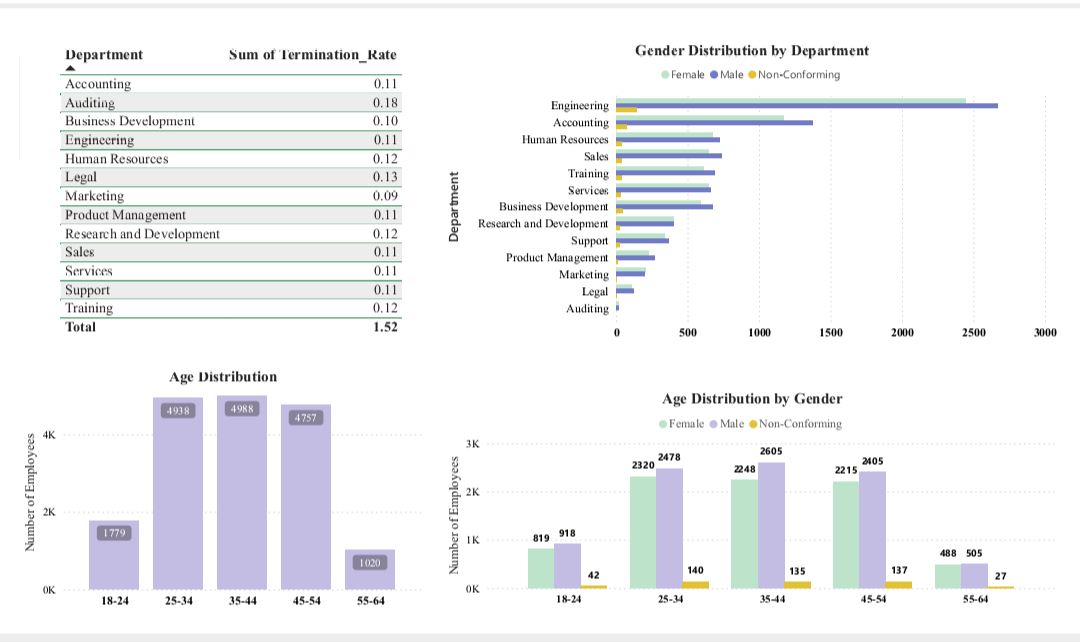

What the dashboard file says about the page in this screenshot:
{"tool":"powerbi","page":{"name":"Page 2","canvas":[1280,720],"ordinal":1},"visuals":[{"type":"columnChart","title":"Age Distribution","fields":{"Category":["age_group.age_group"],"Y":["Sum(age_group.count)"]},"box":[0,417,500,303],"z":0},{"type":"clusteredColumnChart","title":"Age Distribution by  Gender","fields":{"Category":["age_group_gender.age_group"],"Y":["Sum(age_group_gender.count)"],"Series":["age_group_gender.gender"]},"box":[520.9,444.8,759.7,274.6],"z":1000},{"type":"tableEx","fields":{"Values":["turnover_rate.department","Sum(turnover_rate.termination_rate)"]},"box":[44.8,16.4,455.2,377.6],"z":2000},{"type":"clusteredBarChart","title":"Gender Distribution by Department","fields":{"Y":["Sum(gender_dept.count(*))"],"Category":["gender_dept.department"],"Series":["gender_dept.gender"]},"box":[520.9,16.4,759.7,373.1],"z":3000}]}

Visuals, with their boxes on the page's 1280x720 design canvas (x1, y1, x2, y2). These are canvas units, not pixel positions in the 1080x642 screenshot, which may show the page scaled, cropped or inside an application window:
"Age Distribution" columnChart: bbox=[0, 417, 500, 720]
"Age Distribution by  Gender" clusteredColumnChart: bbox=[521, 445, 1281, 719]
tableEx - turnover_rate.department x Sum(turnover_rate.termination_rate): bbox=[45, 16, 500, 394]
"Gender Distribution by Department" clusteredBarChart: bbox=[521, 16, 1281, 390]
